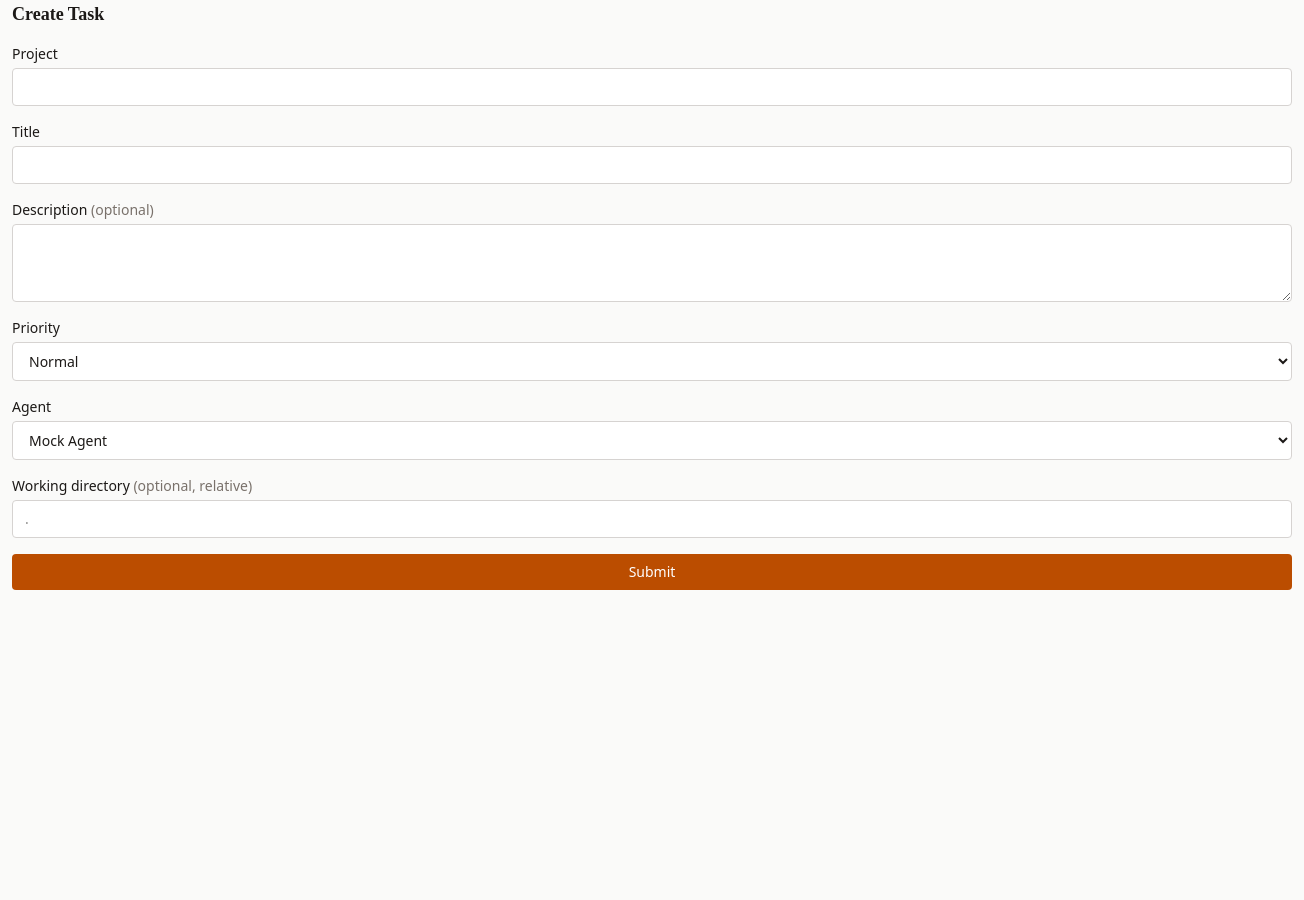
Test: TaskCreateForm › on failure, preserves the entered form values and shows a safe error
In the field labelled "Project": (652, 87) [12, 68, 1292, 106], type "project-1"
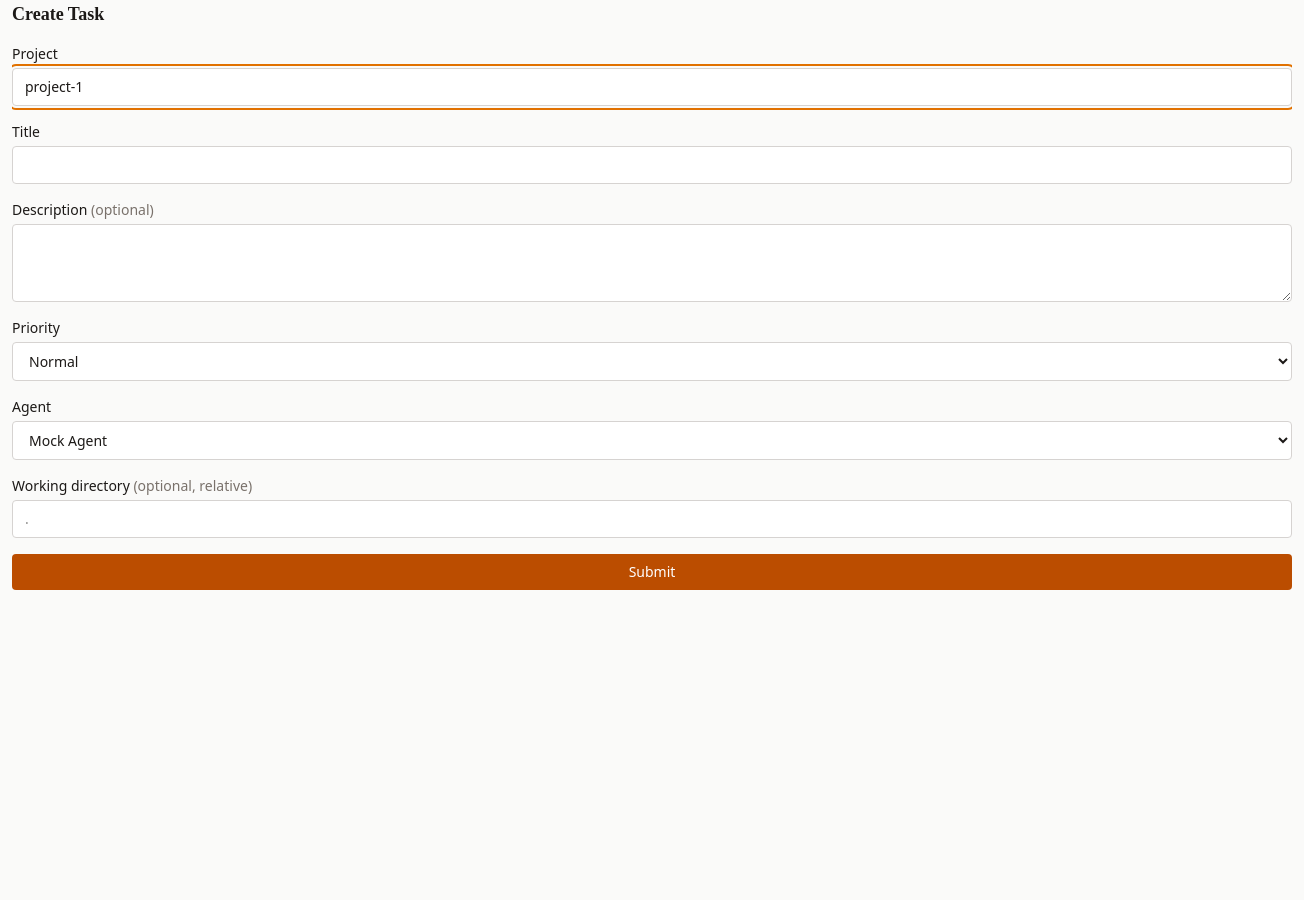
In the field labelled "Title": (652, 165) [12, 146, 1292, 184], type "Task title"
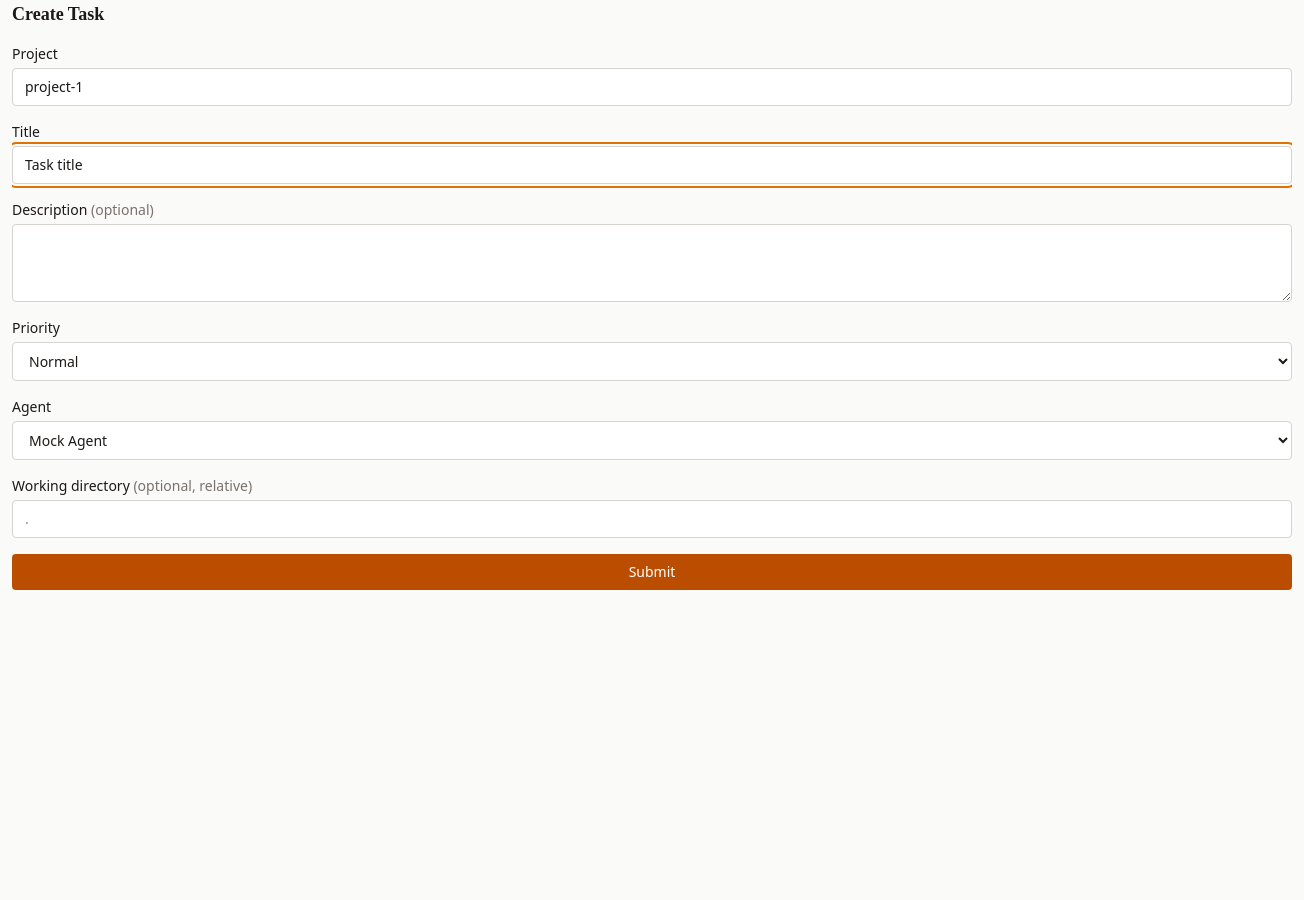
Click the button "Submit": (652, 572) [12, 554, 1292, 590]
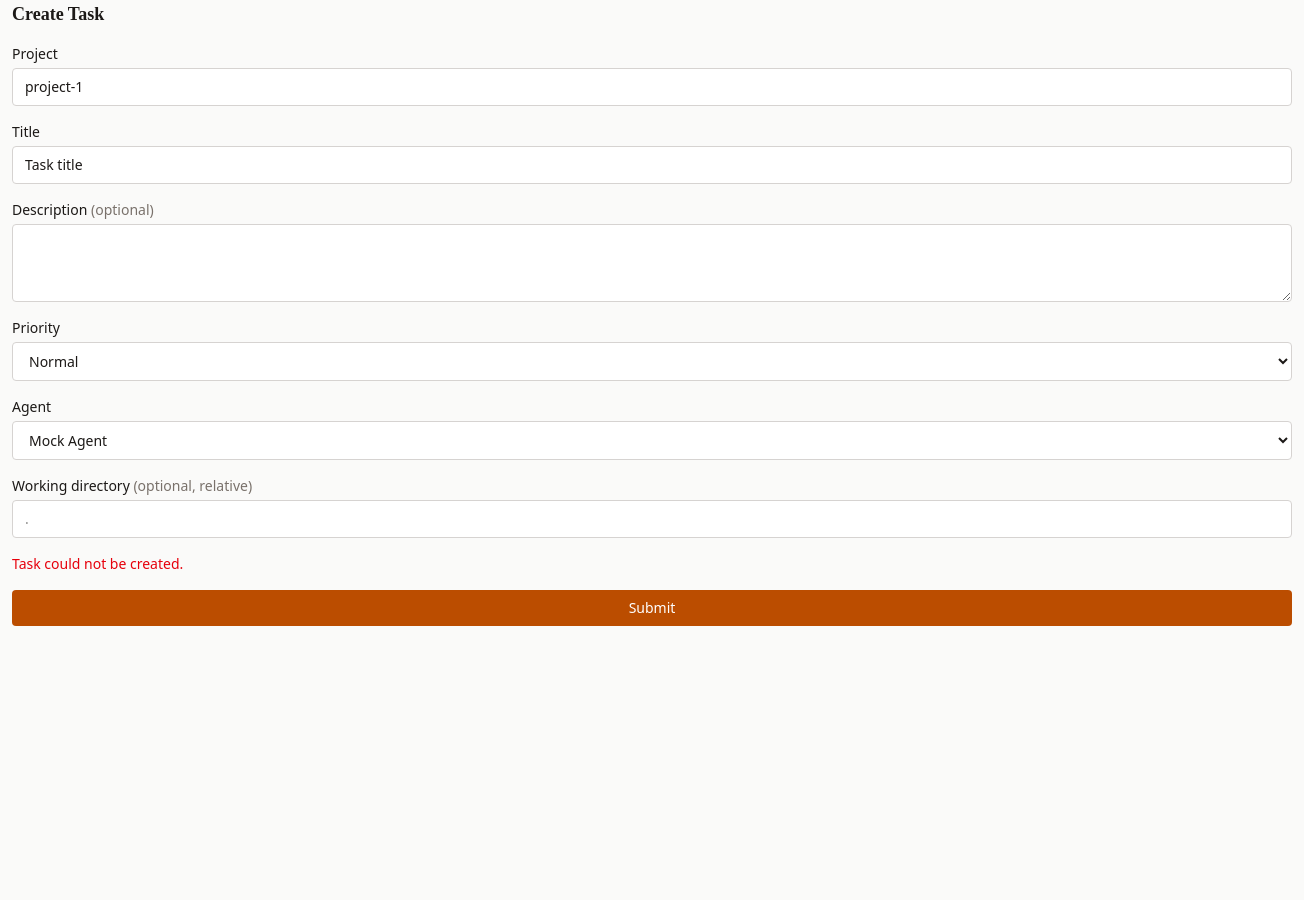
Check: the button "Submit" is enabled, box [12, 590, 1292, 626]
Check: the text "Task could not be created." is shown, box [12, 554, 183, 573]
